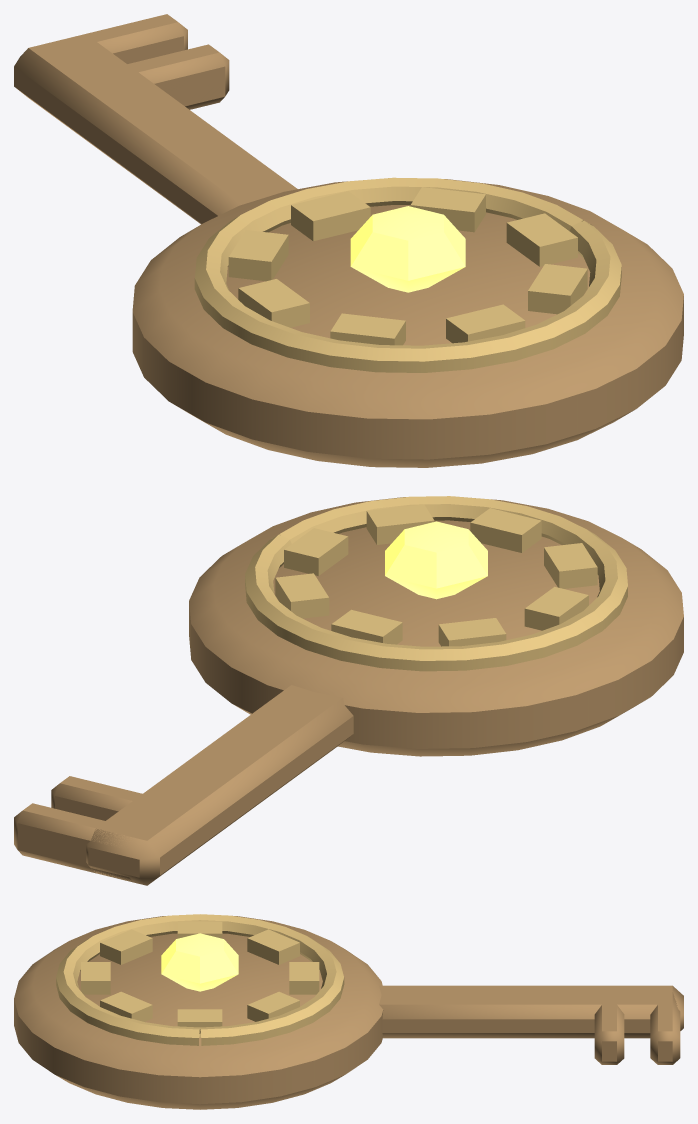
The model's file is quest_seal_key.glb.
3 renders of one model, top to bottom at view 1: azimuth 30°, elevation 25°; view 2: azimuth 150°, elevation 25°; view 3: azimuth 270°, elevation 25°, orthographic. The views are drawn at different scales.
Parts seen in each view (by area): view 1: quest_seal_key; view 2: quest_seal_key; view 3: quest_seal_key.
Part boxes in pixels (x1,y1,x2,y2): quest_seal_key: [14, 14, 683, 467]; quest_seal_key: [14, 496, 683, 885]; quest_seal_key: [14, 914, 683, 1109].
Bounding box in the file's own units: 0.1 × 0.0296 × 0.18.
